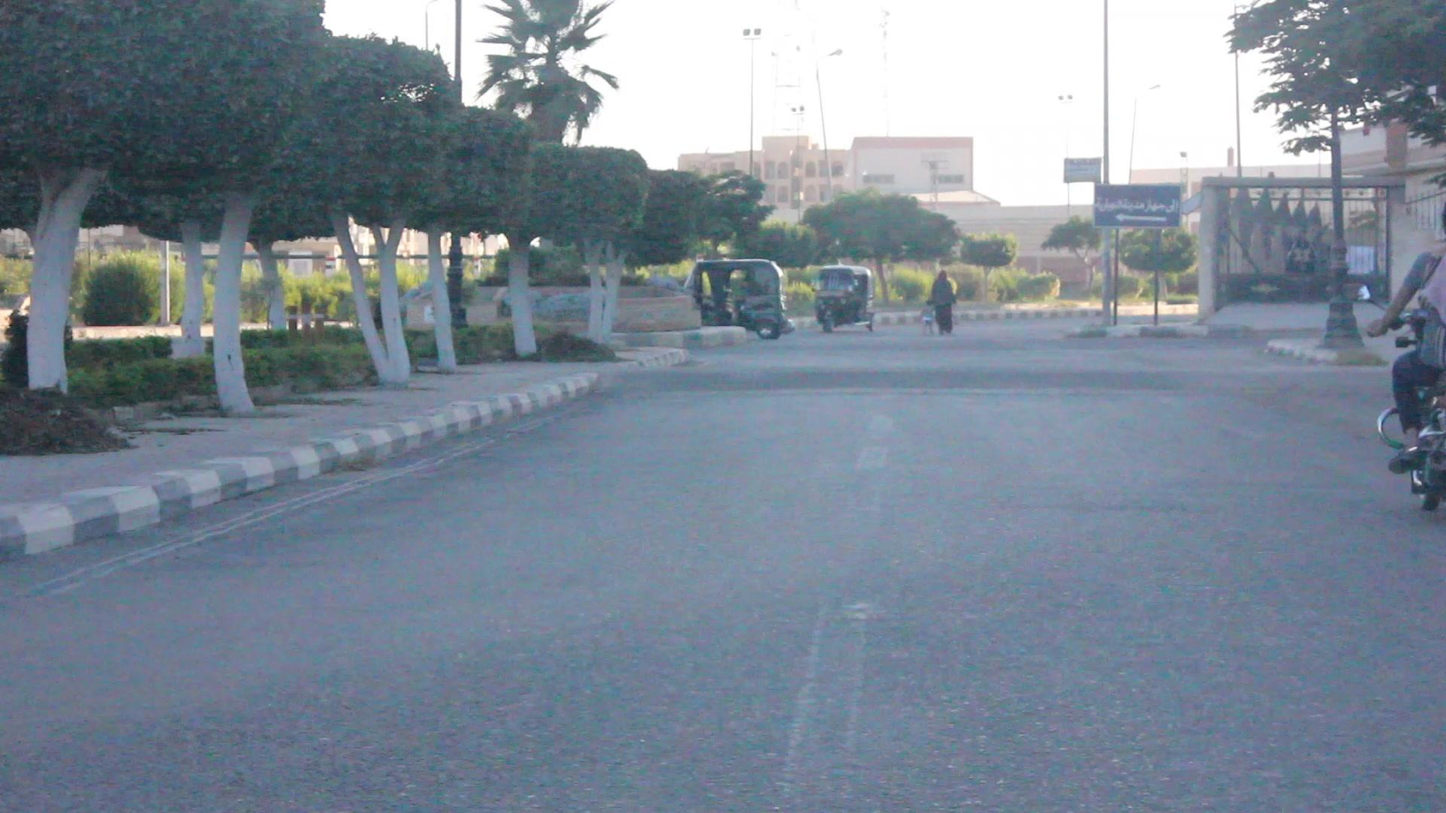Bump: (631, 371, 1184, 391)
